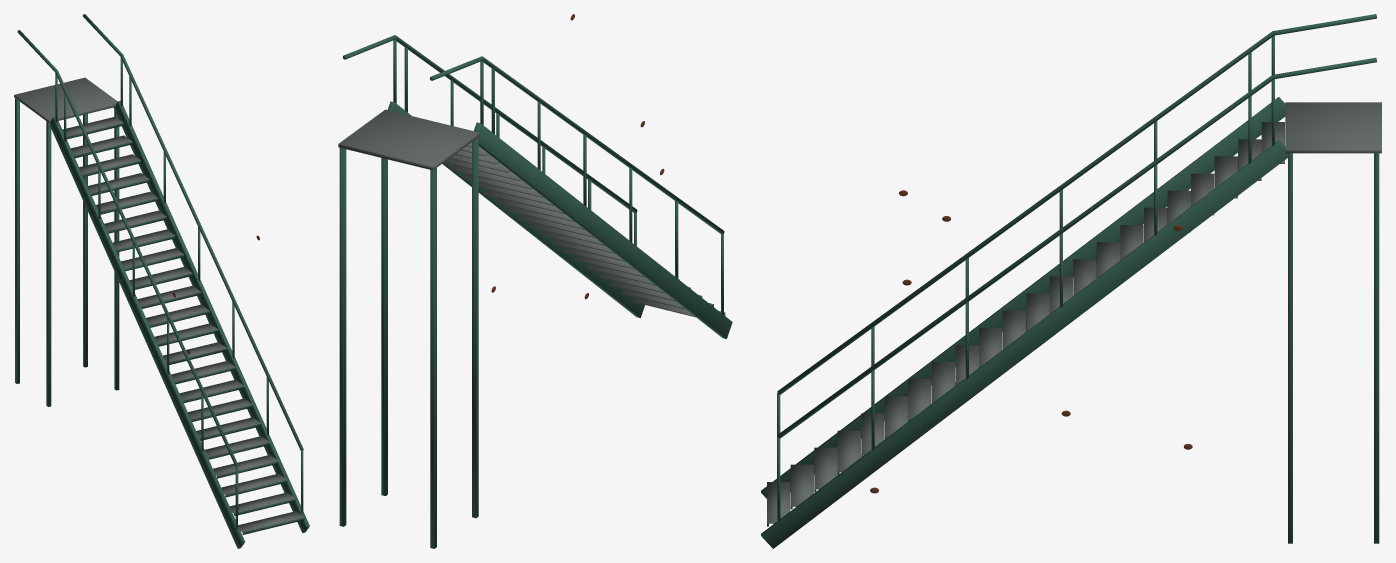
File: cau_thang_404_482_90.glb
The picture shows the model from 3 angles, left to right: view 1: azimuth 30°, elevation 25°; view 2: azimuth 150°, elevation 25°; view 3: azimuth 270°, elevation 25°; orthographic projection. The views are drawn at different scales.
Parts seen in each view (by area): view 1: cau_thang_404_482_90; view 2: cau_thang_404_482_90; view 3: cau_thang_404_482_90.
Boxes of the visible parts, x1,y1,x2,y2 form: cau_thang_404_482_90: (14, 14, 309, 548); cau_thang_404_482_90: (338, 14, 732, 548); cau_thang_404_482_90: (761, 14, 1381, 548).
Size of the model in its own units: 1.05 by 5.03 by 5.77.
